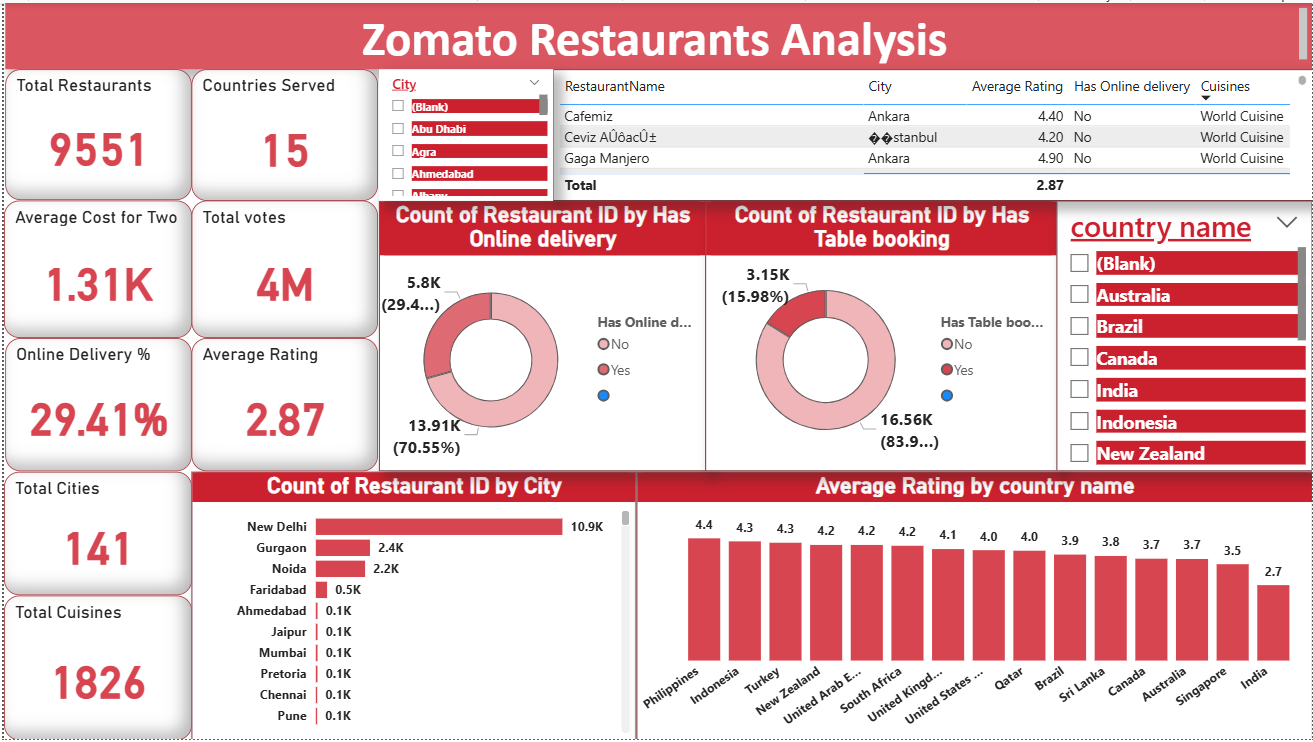

The page's visual inventory and layout, read from the dashboard file:
{"tool":"powerbi","page":{"name":"Overview","canvas":[1280,720],"ordinal":0},"visuals":[{"type":"textbox","box":[1.4,0,1278.9,64.5],"z":0},{"type":"card","title":"Total Restaurants","fields":{"Values":["CountNonNull(Sheet1.RestaurantID)"]},"box":[1.2,64.8,182.2,128.4],"z":1000},{"type":"card","title":"Total Cities","fields":{"Values":["Count(Sheet1.City)"]},"box":[0,458.3,183.9,120.8],"z":2000},{"type":"card","title":"Total Cuisines","fields":{"Values":["Count(Sheet1.Cuisines)"]},"box":[0,579.1,183.9,141.3],"z":3000},{"type":"card","title":"Countries Served","fields":{"Values":["CountNonNull(Sheet2.countryID)"]},"box":[183.9,64.5,182.5,129],"z":4000},{"type":"card","title":"Total votes","fields":{"Values":["Sum(Dataset.Votes)"]},"box":[183.9,193.5,182.5,134.5],"z":5000},{"type":"card","title":"Average Rating","fields":{"Values":["Dataset.Average Rating"]},"box":[183.9,328,182.5,130.4],"z":6000},{"type":"card","title":"Average Cost for Two","fields":{"Values":["Dataset.Average Cost"]},"box":[0,193.5,183.9,134.5],"z":7000},{"type":"card","title":"Online Delivery %","fields":{"Values":["Dataset.Online Delivery %"]},"box":[1.4,328,182.5,130.4],"z":8000},{"type":"clusteredBarChart","fields":{"Y":["CountNonNull(Dataset.Restaurant ID)"],"Category":["Dataset.City"]},"box":[183.9,458.3,435,262.1],"z":9000},{"type":"clusteredColumnChart","fields":{"Category":["Sheet2.country name"],"Y":["Dataset.Average Rating"]},"box":[618.9,458.3,661.4,262.1],"z":10000},{"type":"donutChart","fields":{"Y":["CountNonNull(Dataset.Restaurant ID)"],"Category":["Dataset.Has Online delivery"]},"box":[366.4,193.5,319.7,264.8],"z":11000},{"type":"donutChart","fields":{"Y":["CountNonNull(Dataset.Restaurant ID)"],"Category":["Dataset.Has Table booking"]},"box":[686.1,193.5,344.4,264.8],"z":12000},{"type":"slicer","fields":{"Values":["Sheet2.country name"]},"box":[1030,193,250,265],"z":13000},{"type":"tableEx","fields":{"Values":["Sheet1.RestaurantName","Dataset.City","Dataset.Average Rating","Dataset.Has Online delivery","Dataset.Cuisines"]},"box":[536.5,64.5,743.7,129],"z":14000},{"type":"slicer","fields":{"Values":["Sheet1.City"]},"box":[366.4,64.5,170.2,129],"z":15000}]}

Visuals, with their boxes in screenshot pixels (x1, y1, x2, y2), scaled from the page's 1280x720 canvas onto the 1313x742 screenshot:
textbox: <bbox>1, 0, 1312, 66</bbox>
"Total Restaurants" card: <bbox>1, 67, 188, 199</bbox>
"Total Cities" card: <bbox>0, 472, 189, 597</bbox>
"Total Cuisines" card: <bbox>0, 597, 189, 741</bbox>
"Countries Served" card: <bbox>189, 66, 376, 199</bbox>
"Total votes" card: <bbox>189, 199, 376, 338</bbox>
"Average Rating" card: <bbox>189, 338, 376, 472</bbox>
"Average Cost for Two" card: <bbox>0, 199, 189, 338</bbox>
"Online Delivery %" card: <bbox>1, 338, 189, 472</bbox>
clusteredBarChart - CountNonNull(Dataset.Restaurant ID) x Dataset.City: <bbox>189, 472, 635, 741</bbox>
clusteredColumnChart - Sheet2.country name x Dataset.Average Rating: <bbox>635, 472, 1312, 741</bbox>
donutChart - CountNonNull(Dataset.Restaurant ID) x Dataset.Has Online delivery: <bbox>376, 199, 704, 472</bbox>
donutChart - CountNonNull(Dataset.Restaurant ID) x Dataset.Has Table booking: <bbox>704, 199, 1057, 472</bbox>
slicer - Sheet2.country name: <bbox>1057, 199, 1312, 472</bbox>
tableEx - Sheet1.RestaurantName x Dataset.City: <bbox>550, 66, 1312, 199</bbox>
slicer - Sheet1.City: <bbox>376, 66, 550, 199</bbox>
